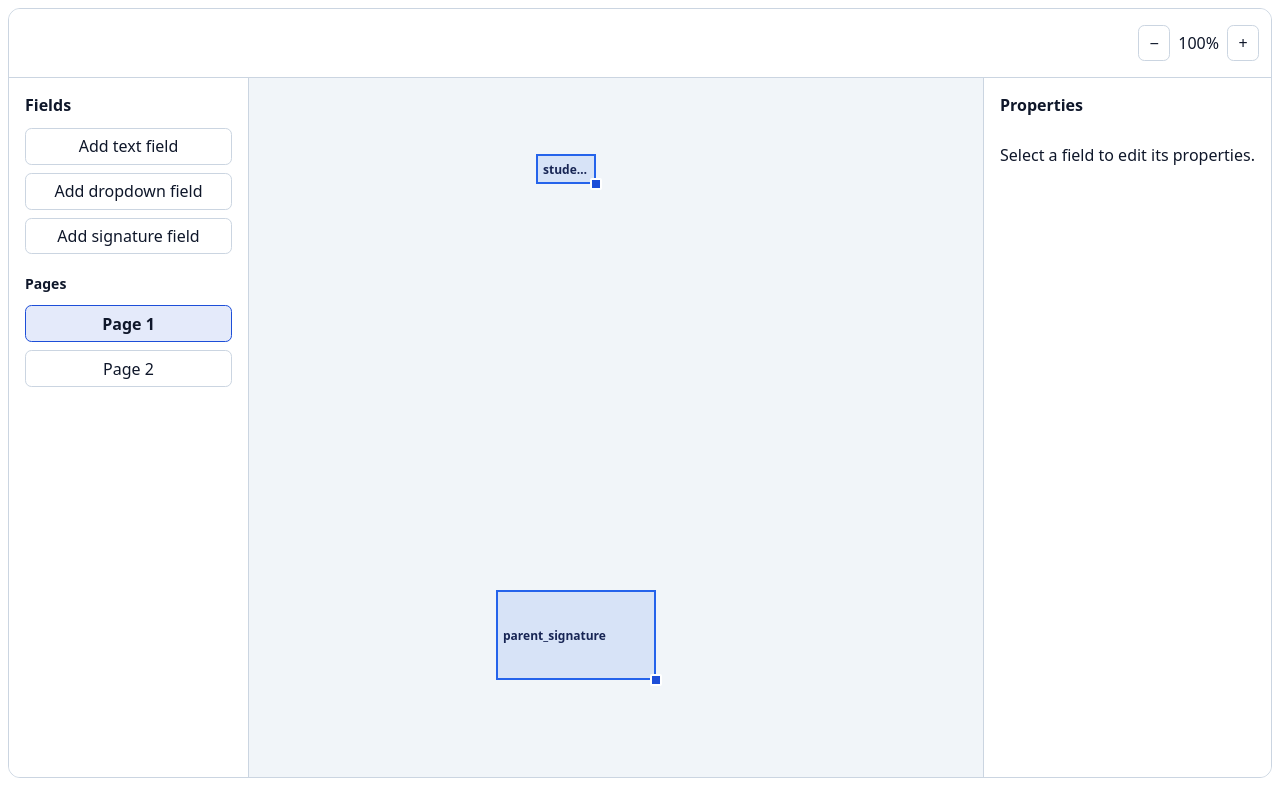
Scenario: PdfFormDesigner › clears rejected name state when a required toggle commits the selected stored field
The image size is (1280, 800).
Click the button named "Text field \"student_name\"" at point(566, 169), box [536,154,596,184]
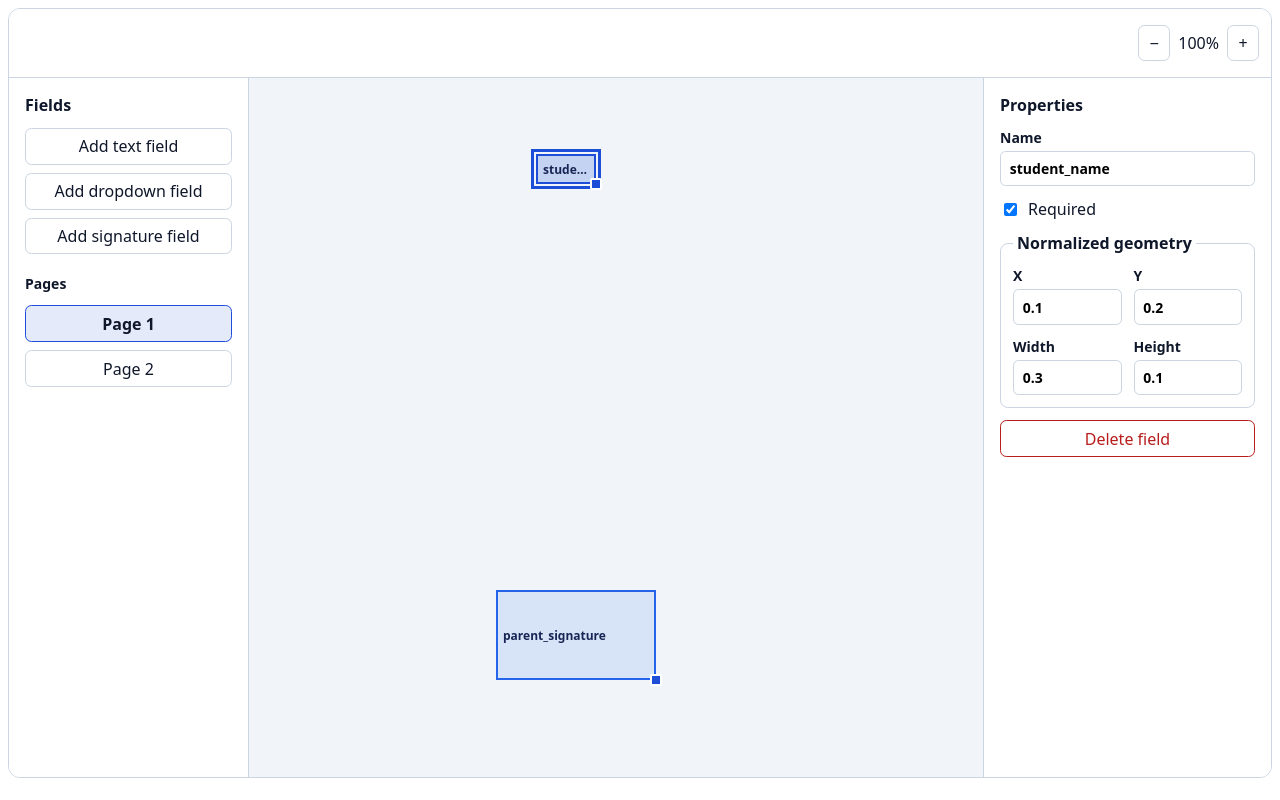
Replace the text in the field labelled "Name" with "parent_signature" at point(1128, 169), box [1000,151,1255,186]
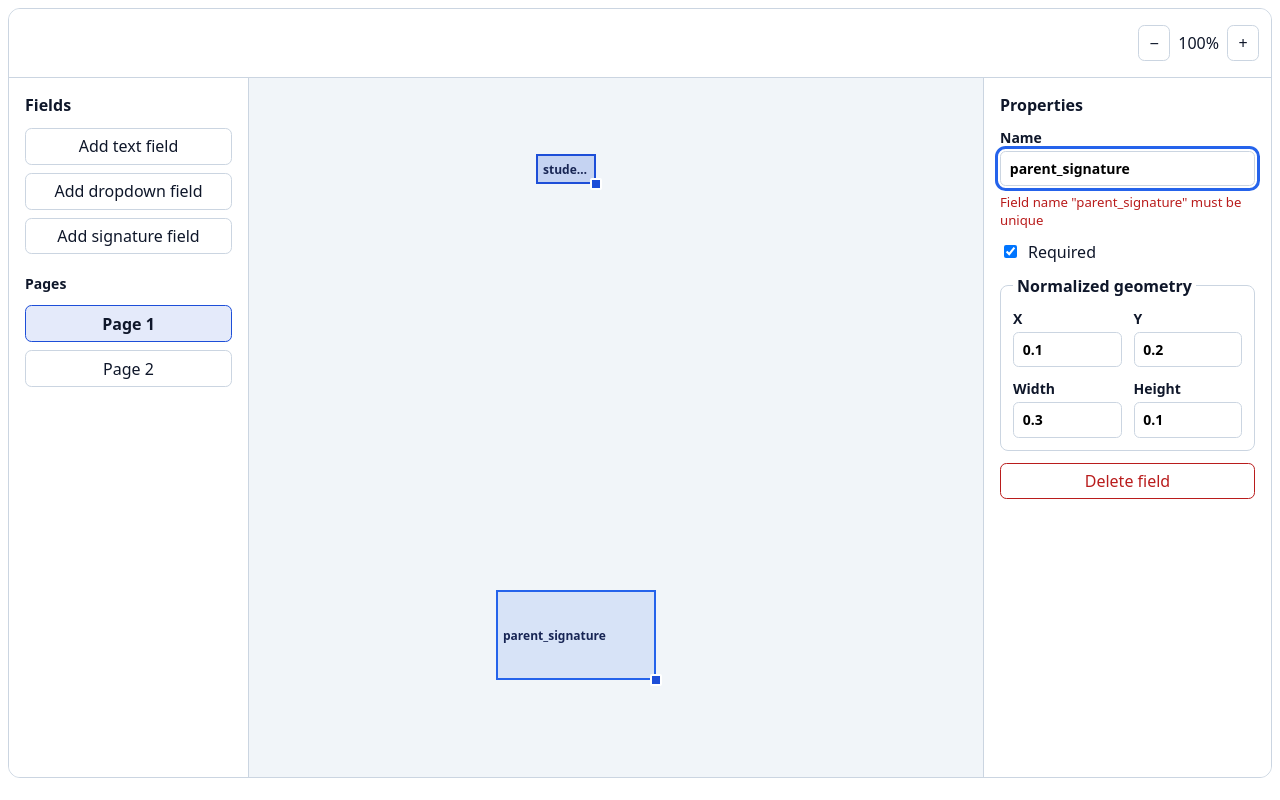
Expected: the message shows "unique", [1000,193,1241,229]
Click the checkbox labelled "Required" at point(1010, 252), box [1004,245,1017,258]
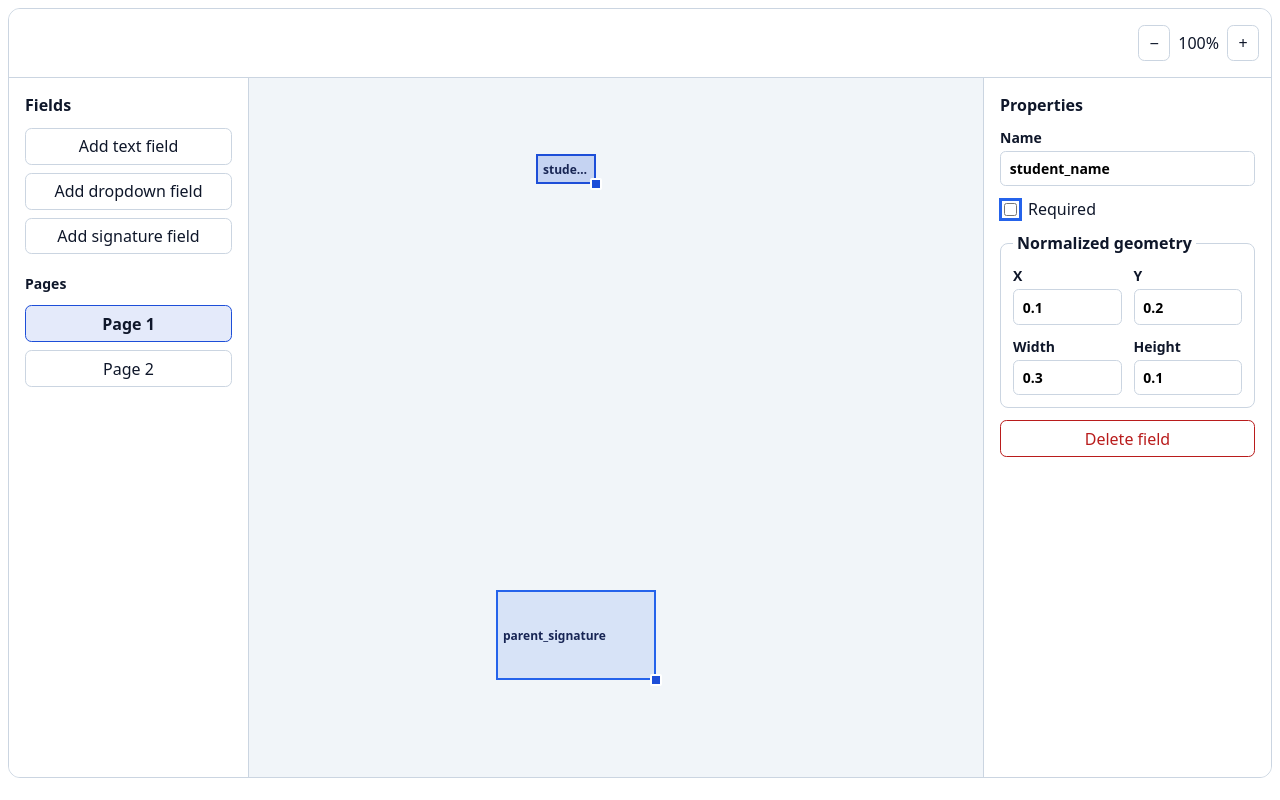
Expected: the field labelled "Name" holds "student_name", [1000,151,1255,186]
